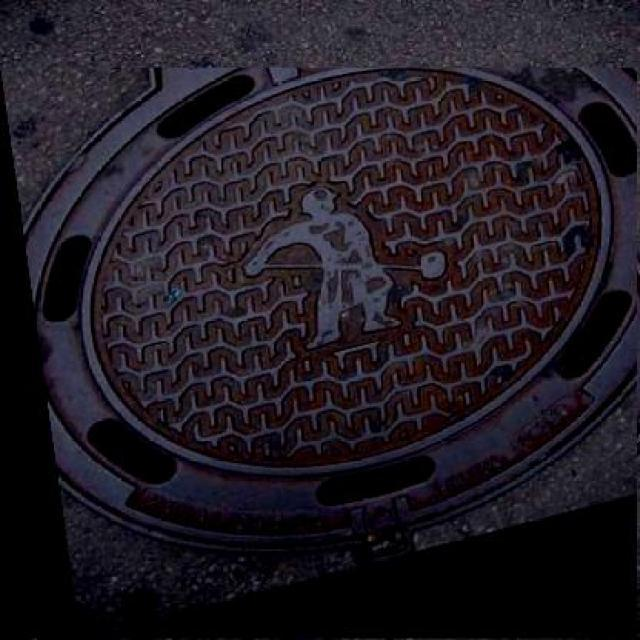Manhole: (0, 67, 637, 638)
